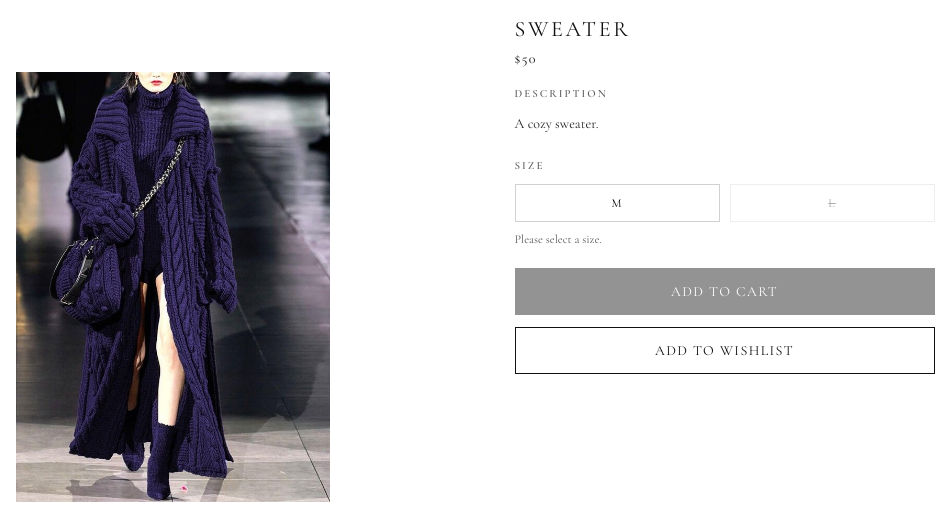
Test: ProductDetails - wishlist › toggles wishlist state when authenticated
expect the heading "Sweater" is shown: met, box left=514, top=16, right=631, bottom=42
What coordinates should you click on to do the following:
click the button "Add to wishlist"
I would click on:
 (724, 351)
Its box is left=514, top=327, right=934, bottom=374.
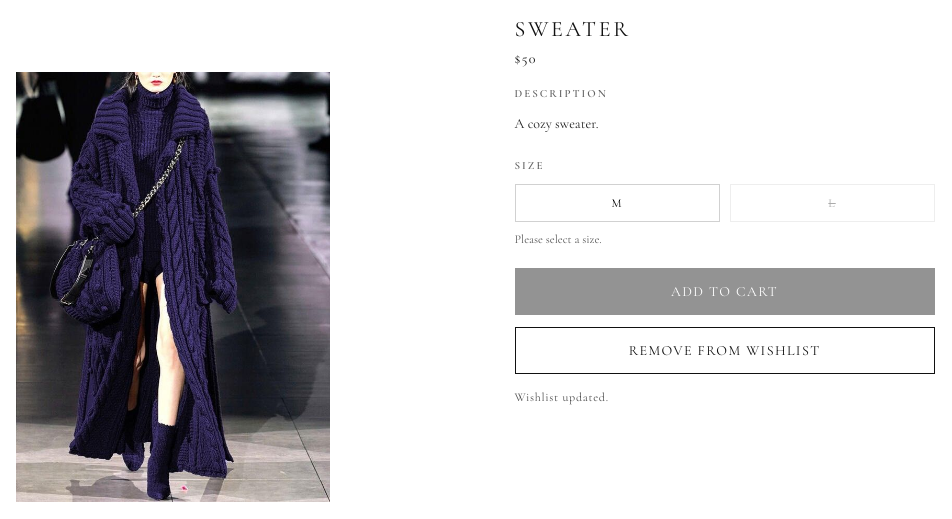
expect the button "Remove from wishlist" is shown: met, box left=514, top=327, right=934, bottom=374
